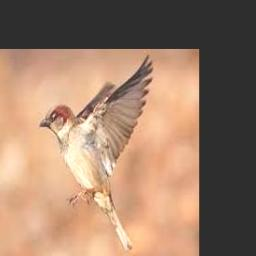Sparrow: (38, 54, 153, 250)
